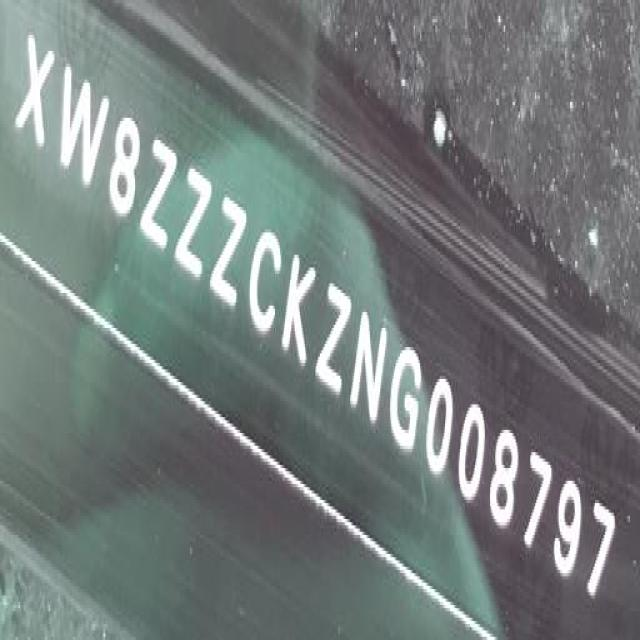0: (419, 363, 459, 487), (452, 391, 492, 511)
7: (583, 492, 627, 618), (515, 444, 556, 560)
8: (106, 101, 144, 225), (490, 421, 518, 534)
9: (546, 468, 588, 587)
C: (245, 223, 289, 342)
G: (390, 346, 421, 456)
K: (278, 246, 322, 377)
M: (344, 296, 396, 436)
W: (54, 65, 112, 202)
X: (11, 22, 58, 156)
Z: (206, 189, 254, 312), (138, 131, 184, 257), (172, 163, 218, 285), (312, 280, 354, 404)
